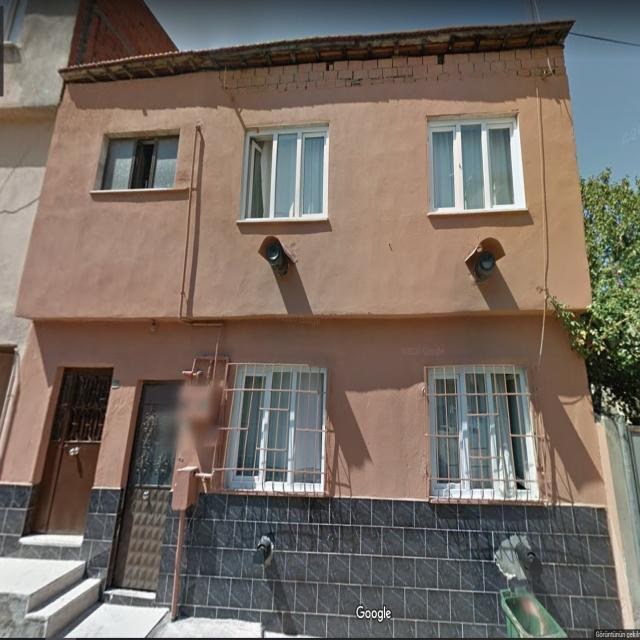Building: (0, 19, 625, 640)
